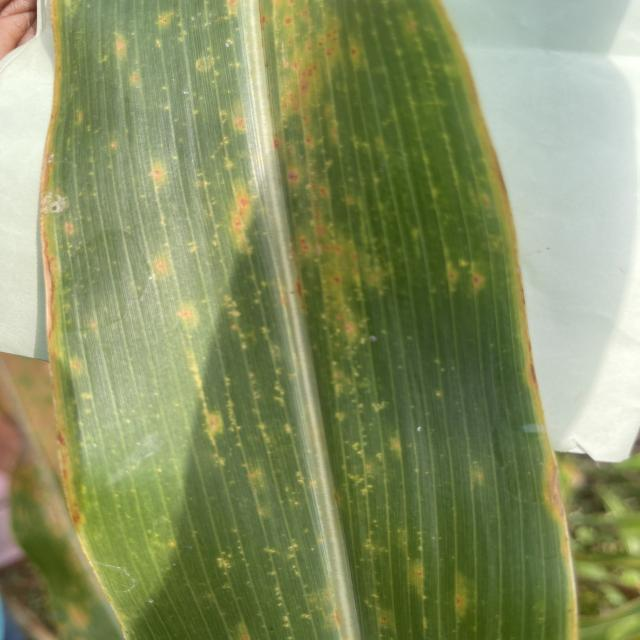millet_rust: (39, 0, 584, 640)
